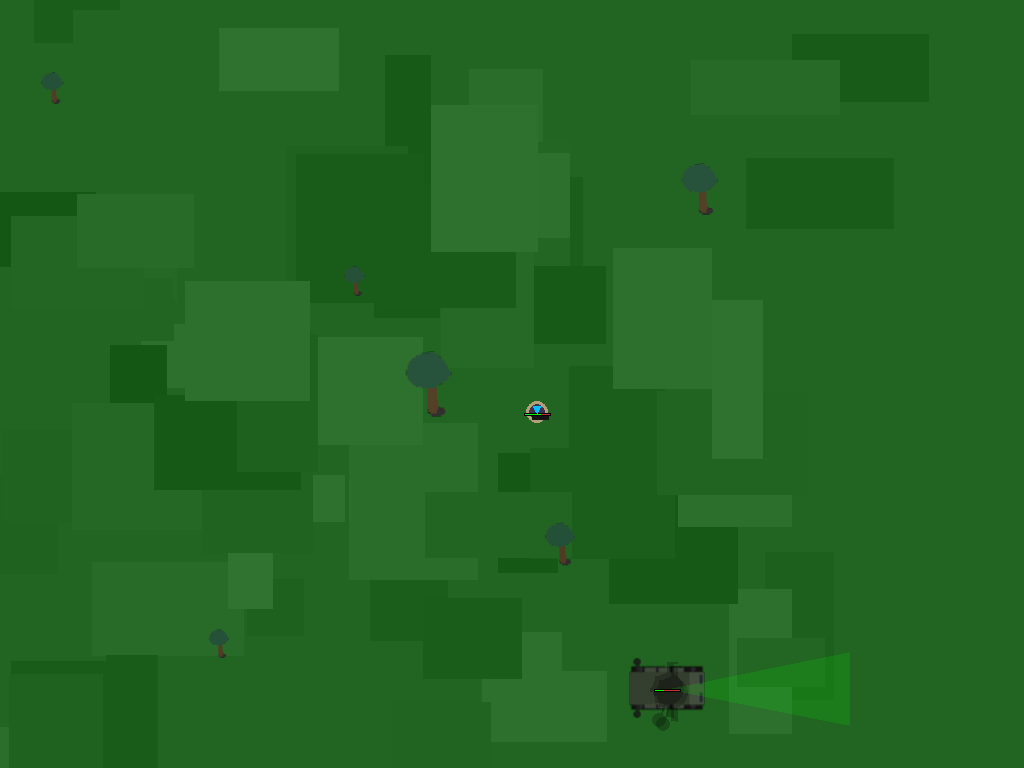RadarBuilding: (624, 645, 710, 731)
RocketTrooper: (519, 394, 555, 430)
